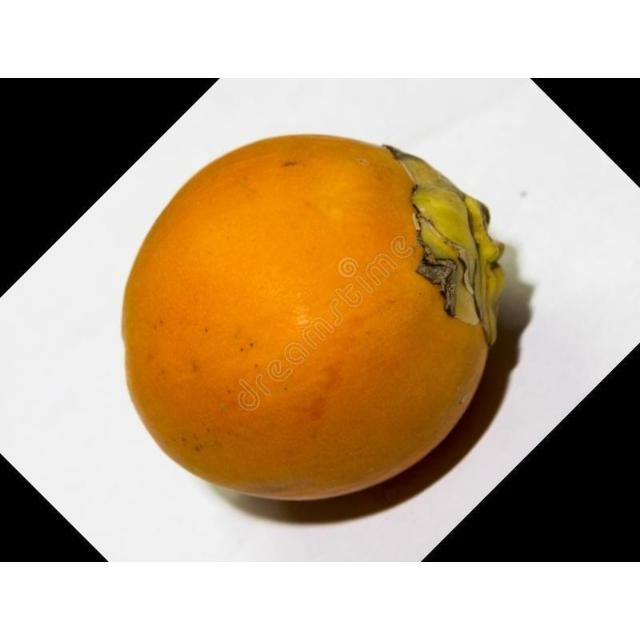good: (119, 136, 510, 504)
